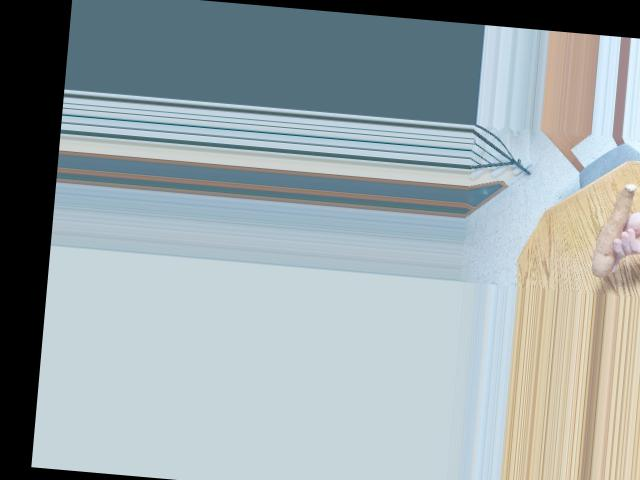sweet_potato: (587, 179, 637, 277)
